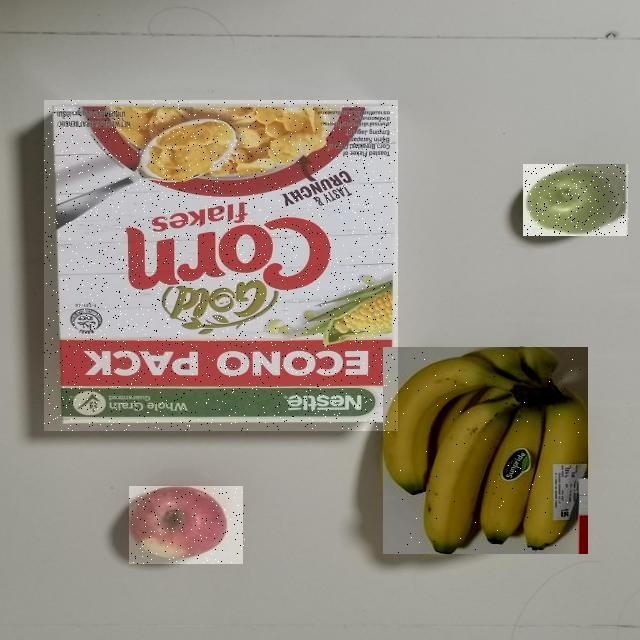Apple: (130, 486, 246, 564), (524, 164, 630, 236)
Banana: (383, 347, 588, 554)
Cereal: (45, 100, 399, 431)
